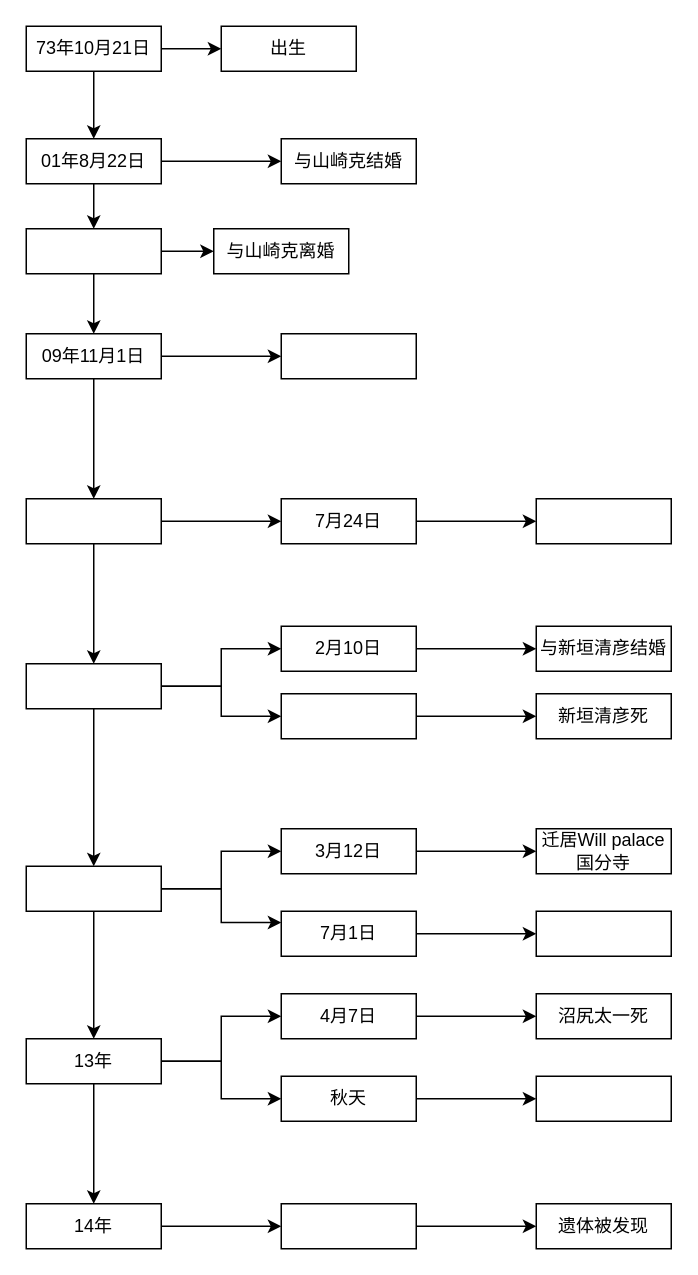
This 698x1275 diagram has some shape labels left out. Each missing label, with the centre of its shape:
"04年6月27日" belongs at pixel 93 250.
"10年" belongs at pixel 93 520.
"11年" belongs at pixel 93 685.
"12年" belongs at pixel 93 888.
"12月10日" belongs at pixel 348 715.
"3月4日" belongs at pixel 348 1225.
"与河濑干男结婚" belongs at pixel 348 355.
"与沼尻太一结婚" belongs at pixel 603 933.
"死于Will palace国分寺" belongs at pixel 603 1098.
"河濑干男死" belongs at pixel 603 520.
